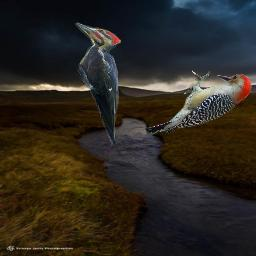Woodpecker: (146, 69, 253, 136), (74, 22, 121, 146)
